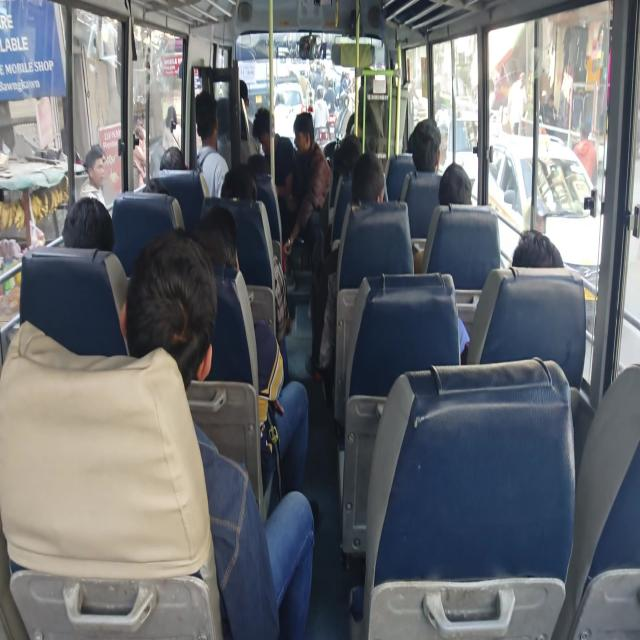person: (120, 228, 315, 638), (195, 205, 309, 497), (315, 152, 387, 378), (459, 229, 564, 363), (414, 162, 473, 361), (282, 112, 332, 270), (252, 106, 294, 200), (194, 90, 229, 198), (62, 195, 115, 251), (511, 229, 564, 268), (406, 118, 442, 173), (572, 118, 598, 186), (79, 144, 106, 207), (438, 162, 472, 205), (506, 70, 527, 134), (312, 84, 330, 141), (159, 145, 187, 171)
